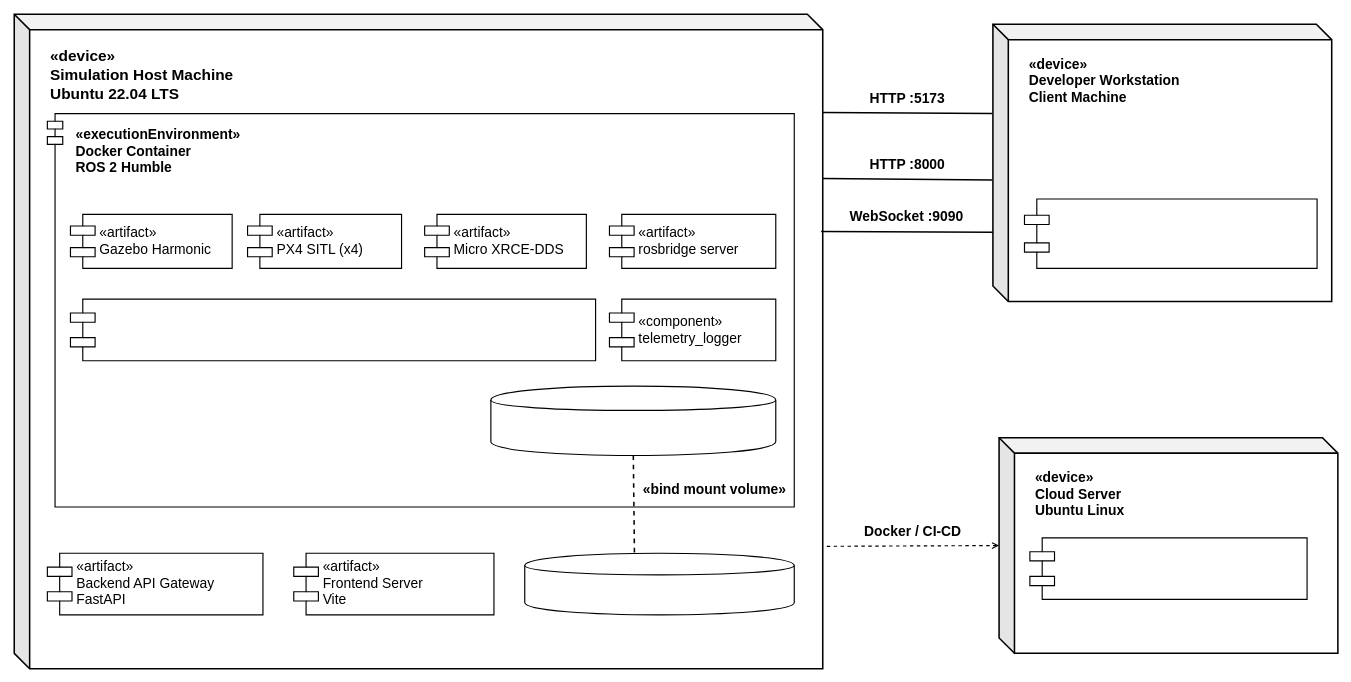
Image size: 1351x682. Some labels were removed from this diagram. Here are the shapes that lost their labels. From the top down, the centre of each, then its label:
point 1170,233: «artifact» Web Browser GCS Web Client
point 333,329: «component» ROS 2 Swarm Stack, ThreatAssessment, MissionRules, AttackManager
point 633,420: «artifact» telemetry.db
point 659,583: «artifact» Telemetry Database File
point 1168,568: «artifact» Headless Duel Runner
